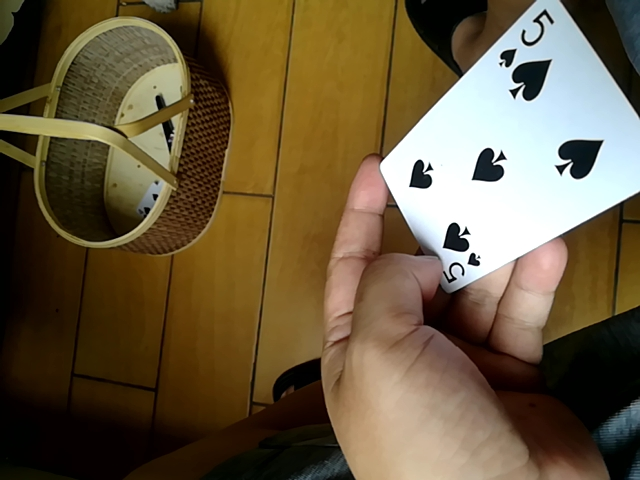ht 5: (374, 1, 640, 294)
